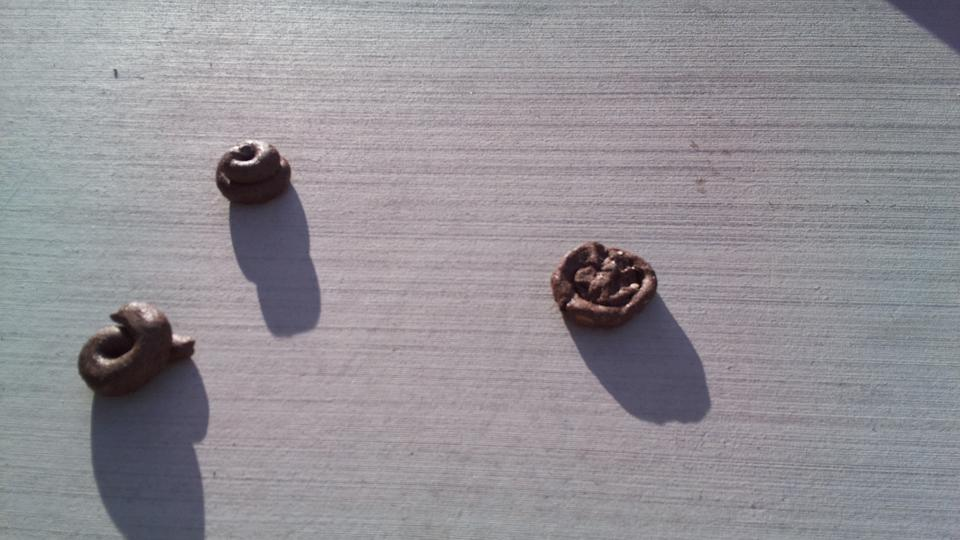poop: (73, 296, 201, 398), (546, 236, 666, 333), (213, 138, 295, 206)
